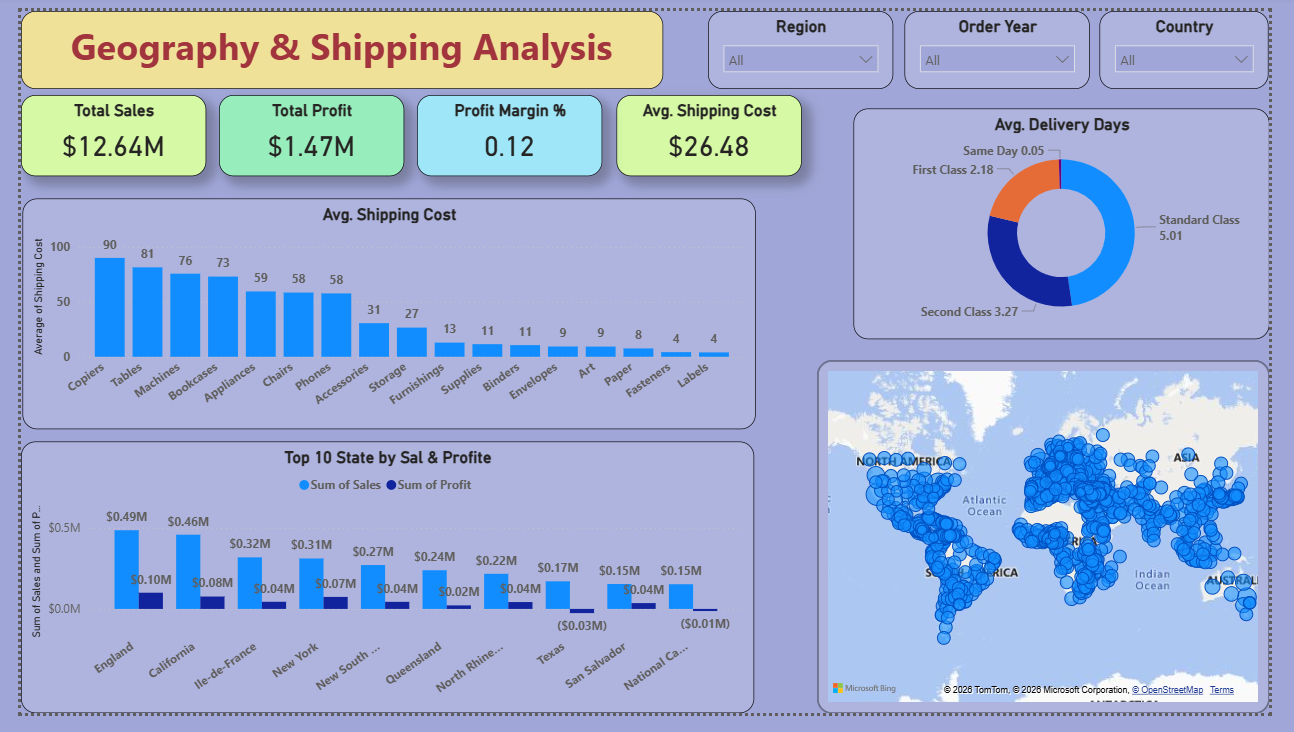

The page's visual inventory and layout, read from the dashboard file:
{"tool":"powerbi","page":{"name":"Geography & Shipping Analysis","canvas":[1280,720],"ordinal":3},"visuals":[{"type":"card","title":"Total Sales","fields":{"Values":["Sum(Orders.Sales)"]},"box":[0,86.7,190,83.3],"z":0},{"type":"card","title":"Total Profit","fields":{"Values":["Sum(Orders.Profit)"]},"box":[203.3,86.7,190,83.3],"z":1000},{"type":"card","title":"Avg. Shipping Cost","fields":{"Values":["Orders.Avg Shipping Cost"]},"box":[610,86.7,190,83.3],"z":2000},{"type":"card","title":"Profit Margin %","fields":{"Values":["Orders.Profit Margin %"]},"box":[406.7,86.7,190,83.3],"z":3000},{"type":"slicer","title":"Order Year","fields":{"Values":["Orders.Order Year"]},"box":[906.7,0,190,80],"z":4000},{"type":"slicer","title":"Country","fields":{"Values":["Orders.Country"]},"box":[1106.7,0,173.3,80],"z":5000},{"type":"map","title":"Order Year","fields":{"Category":["Orders.State"],"Size":["Sum(Orders.Profit)"]},"box":[816.7,358.3,463.3,361.7],"z":6000},{"type":"donutChart","title":"Avg. Delivery Days","fields":{"Y":["Avg(Orders.Delivery Days)"],"Category":["Orders.Ship Mode"]},"box":[853.3,100,426.7,236.7],"z":7000},{"type":"slicer","title":"Region","fields":{"Values":["Orders.Region"]},"box":[705,0,190,80],"z":9000},{"type":"clusteredColumnChart","title":"Top 10 State by Sal & Profite","fields":{"Category":["Orders.State"],"Y":["Sum(Orders.Sales)","Sum(Orders.Profit)"]},"box":[0,441.7,751.7,278.3],"z":10000},{"type":"columnChart","title":"Avg.  Shipping Cost","fields":{"Y":["Avg(Orders.Shipping Cost)"],"Category":["Orders.Sub-Category"]},"box":[1.7,191.7,751.7,236.7],"z":10001},{"type":"textbox","box":[0,0,658.3,80],"z":10002}]}

Visuals, with their boxes in screenshot pixels (x1, y1, x2, y2), scaled from the page's 1280x720 canvas onto the 1294x732 screenshot:
"Total Sales" card: locate(0, 88, 192, 173)
"Total Profit" card: locate(206, 88, 398, 173)
"Avg. Shipping Cost" card: locate(617, 88, 809, 173)
"Profit Margin %" card: locate(411, 88, 603, 173)
"Order Year" slicer: locate(917, 0, 1109, 81)
"Country" slicer: locate(1119, 0, 1293, 81)
"Order Year" map: locate(826, 364, 1293, 731)
"Avg. Delivery Days" donutChart: locate(863, 102, 1293, 342)
"Region" slicer: locate(713, 0, 905, 81)
"Top 10 State by Sal & Profite" clusteredColumnChart: locate(0, 449, 760, 731)
"Avg.  Shipping Cost" columnChart: locate(2, 195, 762, 436)
textbox: locate(0, 0, 666, 81)
